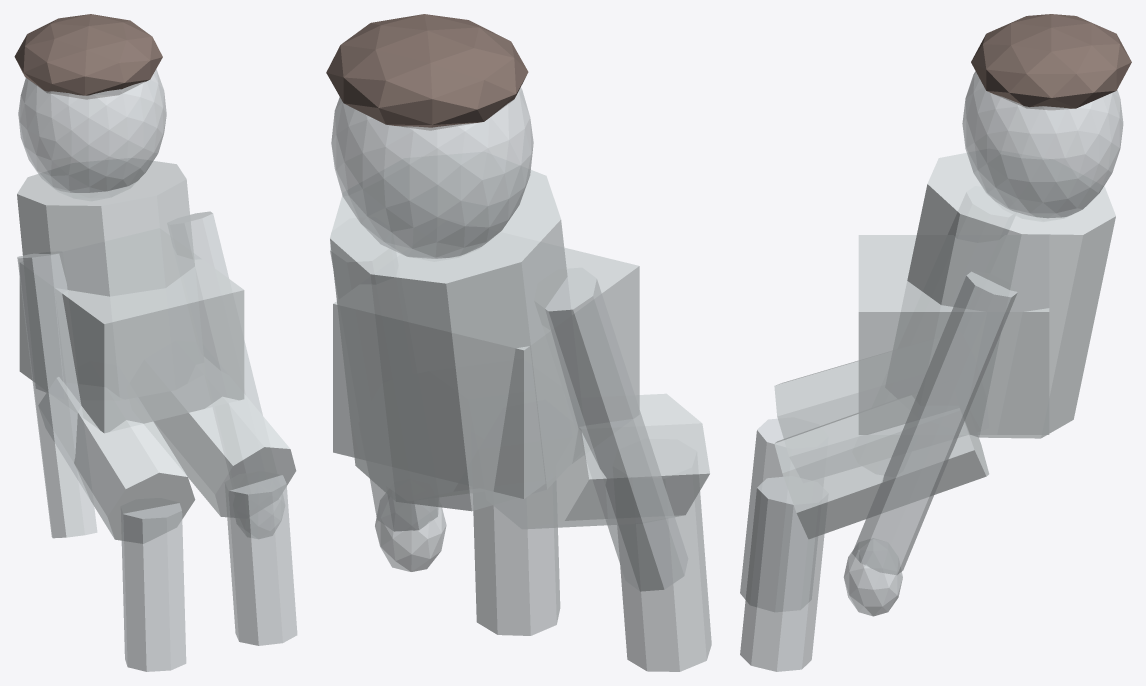
Rendered from ghost_hospital_seated.glb.
3 renders of one model, left to right at view 1: azimuth 30°, elevation 25°; view 2: azimuth 150°, elevation 25°; view 3: azimuth 270°, elevation 25°, orthographic. The views are drawn at different scales.
Parts seen in each view (by area): view 1: shroud, seated_torso, seated_head, left_thigh, left_arm, right_thigh, right_dangling_leg, left_dangling_leg, seated_hair, right_arm, hand; view 2: seated_torso, seated_head, left_arm, shroud, seated_hair, left_thigh, left_dangling_leg, right_dangling_leg, hand, right_arm; view 3: seated_torso, shroud, right_thigh, right_arm, seated_head, right_dangling_leg, seated_hair, left_dangling_leg, left_thigh, hand.
Boxes of the visible parts, <box> form: shroud: <box>19,254,244,433</box>; seated_torso: <box>17,158,194,392</box>; seated_head: <box>18,69,166,192</box>; left_thigh: <box>38,377,195,543</box>; left_arm: <box>17,253,97,538</box>; right_thigh: <box>153,394,296,518</box>; right_dangling_leg: <box>227,475,297,645</box>; left_dangling_leg: <box>121,503,186,671</box>; seated_hair: <box>14,14,162,99</box>; right_arm: <box>190,211,262,415</box>; hand: <box>236,493,284,538</box>; seated_torso: <box>330,152,583,511</box>; seated_head: <box>331,87,533,258</box>; left_arm: <box>545,267,688,591</box>; shroud: <box>333,247,639,498</box>; seated_hair: <box>326,14,528,130</box>; left_thigh: <box>493,393,710,529</box>; left_dangling_leg: <box>617,491,711,671</box>; right_dangling_leg: <box>473,505,560,635</box>; hand: <box>375,493,446,571</box>; right_arm: <box>330,233,438,531</box>; seated_torso: <box>907,149,1115,438</box>; shroud: <box>858,235,1049,434</box>; right_thigh: <box>774,408,989,539</box>; right_arm: <box>852,271,1017,575</box>; seated_head: <box>962,71,1123,218</box>; right_dangling_leg: <box>740,476,824,671</box>; seated_hair: <box>971,14,1131,109</box>; left_dangling_leg: <box>740,418,817,611</box>; left_thigh: <box>774,360,858,438</box>; hand: <box>843,538,902,616</box>.
Bounding box in the file's own units: 0.6948 × 1.57 × 0.9246.
